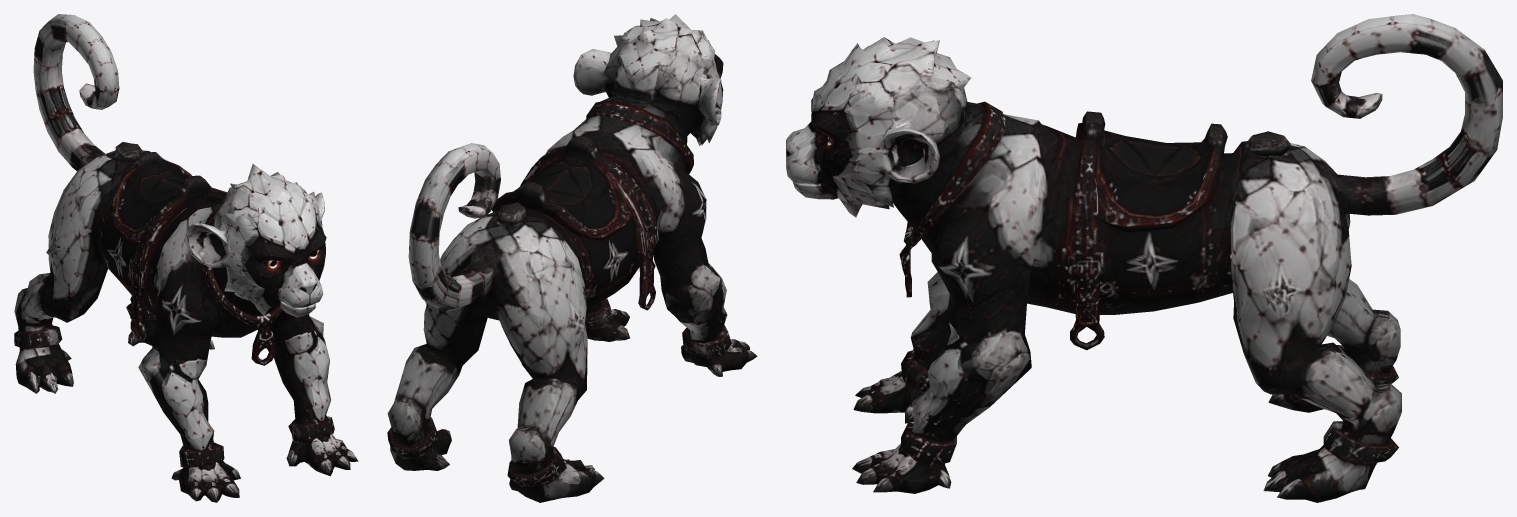
File: eto-saru.glb
The picture shows the model from 3 angles, left to right: view 1: azimuth 30°, elevation 25°; view 2: azimuth 150°, elevation 25°; view 3: azimuth 270°, elevation 25°; orthographic projection. The views are drawn at different scales.
Parts seen in each view (by area): view 1: mesh_node; view 2: mesh_node; view 3: mesh_node.
Part boxes in pixels (x1,y1,x2,y2): mesh_node: (14,14,358,502); mesh_node: (387,14,757,502); mesh_node: (786,14,1502,502).
Bounding box in the file's own units: 0.3975 × 0.668 × 1.
Materials: 1 (1 with a texture image).
